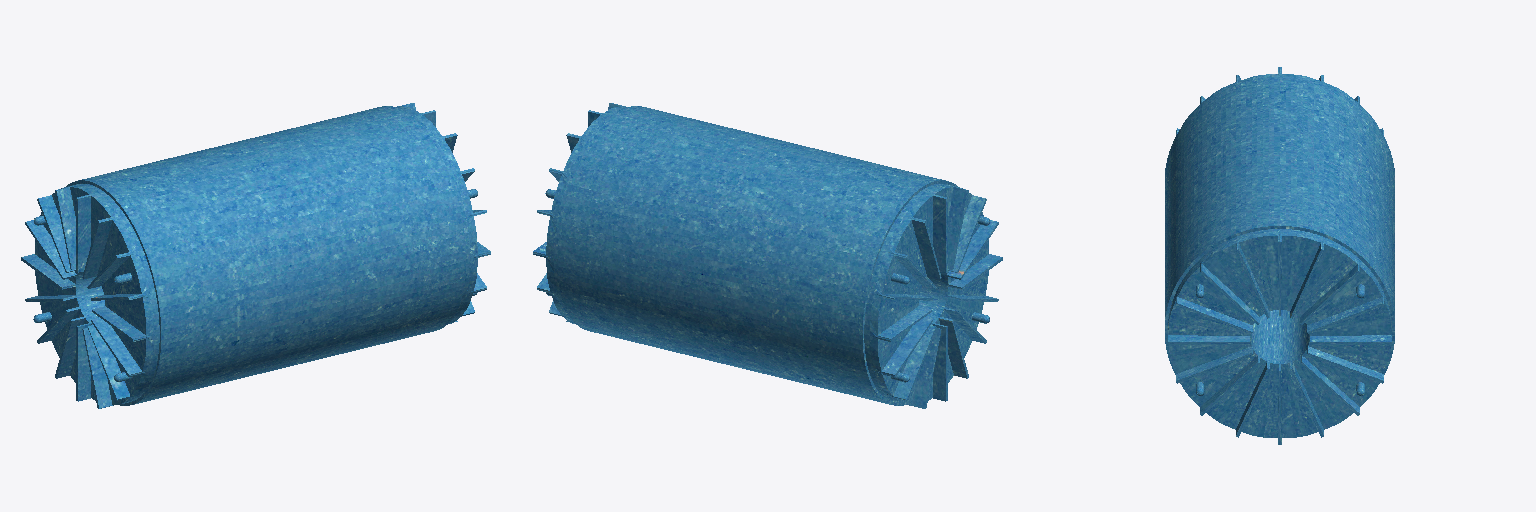
3 renders of one model, left to right at view 1: azimuth 30°, elevation 25°; view 2: azimuth 150°, elevation 25°; view 3: azimuth 270°, elevation 25°, orthographic.
Parts seen in each view (by area): view 1: Cylinder.038; view 2: Cylinder.038; view 3: Cylinder.038.
Part boxes in pixels (x1,y1,x2,y2): Cylinder.038: (21,103,490,408); Cylinder.038: (533,103,1002,408); Cylinder.038: (1165,67,1394,444).
Size of the model in its own units: 0.0949 by 0.0523 by 0.0523.
1 materials, 1 textured.